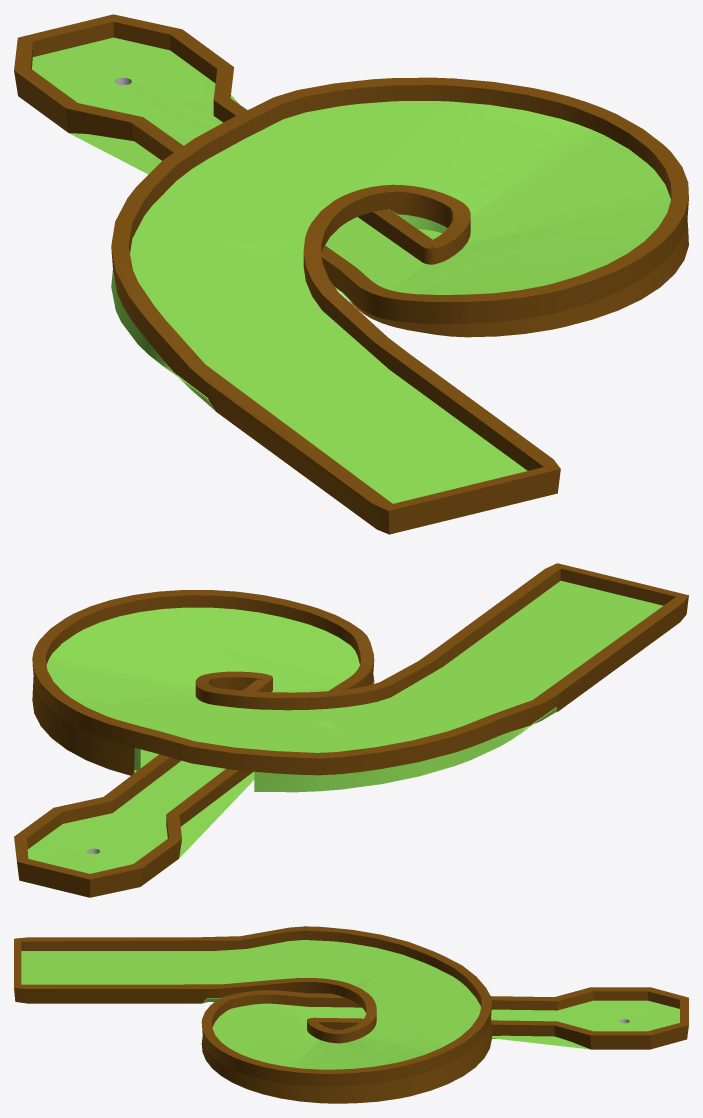
Rendered from hole6.fbx.
3 views of the same model, one above another, from view 1: azimuth 30°, elevation 25°; view 2: azimuth 150°, elevation 25°; view 3: azimuth 270°, elevation 25° (orthographic). The views are drawn at different scales.
Parts seen in each view (by area): view 1: hole6_plane1; view 2: hole6_plane1; view 3: hole6_plane1.
Boxes of the visible parts, left/top/right/bottom form: hole6_plane1: left=14, top=14, right=688, bottom=534; hole6_plane1: left=14, top=563, right=688, bottom=897; hole6_plane1: left=14, top=926, right=688, bottom=1103.
Size of the model in its own units: 364 by 47.06 by 662.
